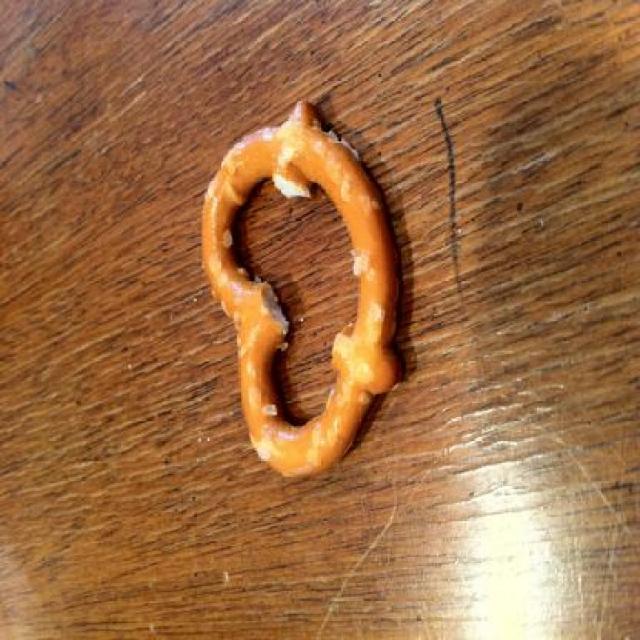Salatini packaged: (200, 99, 402, 483)
